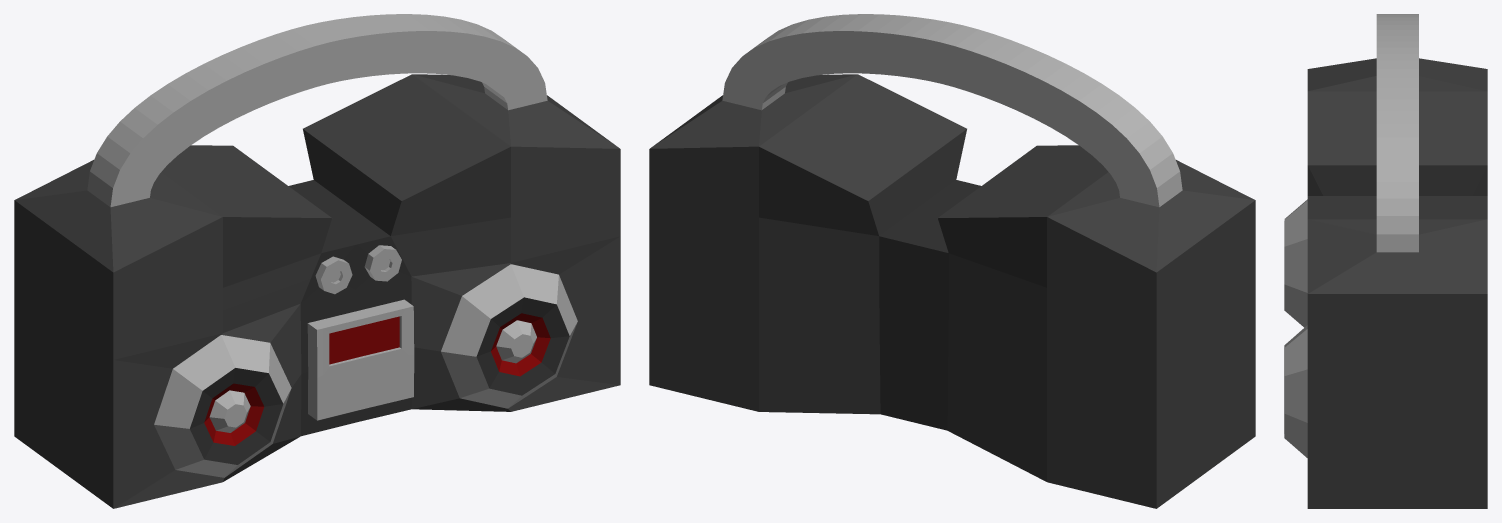
The model's file is boom_box.glb.
3 renders of one model, left to right at view 1: azimuth 30°, elevation 25°; view 2: azimuth 150°, elevation 25°; view 3: azimuth 270°, elevation 25°, orthographic. The views are drawn at different scales.
Visible parts, largest first — view 1: BoomBox; view 2: BoomBox; view 3: BoomBox.
Boxes of the visible parts, left/top/right/bottom form: BoomBox: left=14, top=14, right=620, bottom=508; BoomBox: left=649, top=14, right=1255, bottom=508; BoomBox: left=1284, top=14, right=1487, bottom=508.
Size of the model in its own units: 2 by 1.42 by 0.7647.
1 material, 1 textured.
